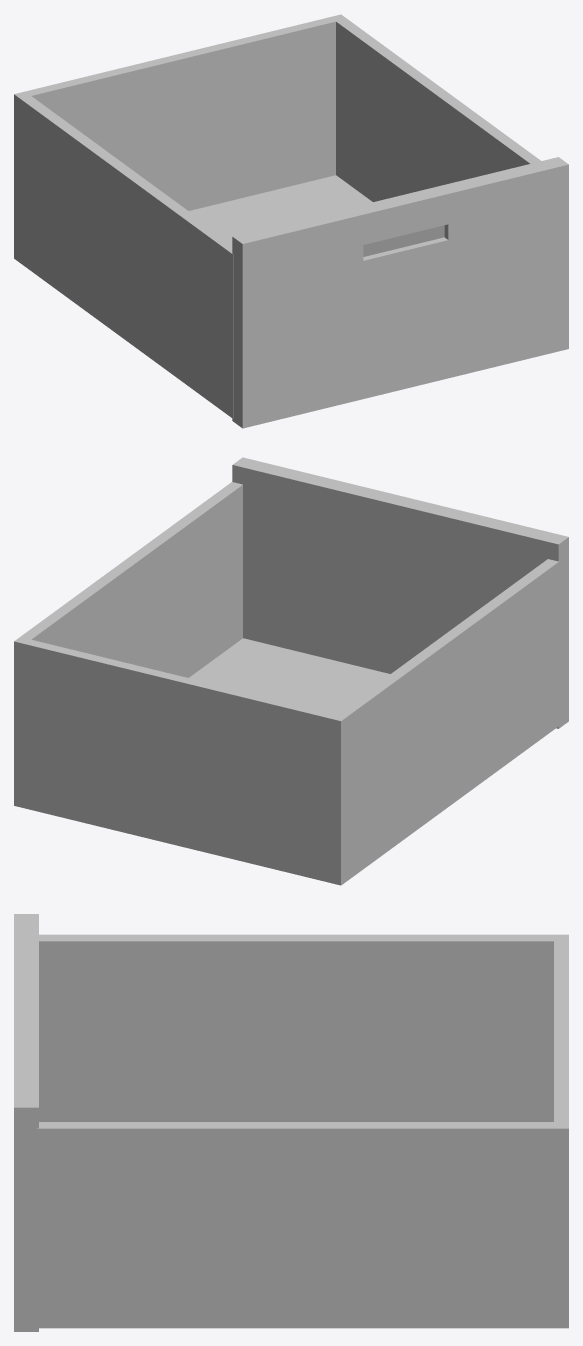
Rendered from Refrigerator3_C2_05.fbx.
3 renders of one model, top to bottom at view 1: azimuth 30°, elevation 25°; view 2: azimuth 150°, elevation 25°; view 3: azimuth 270°, elevation 25°, orthographic. The views are drawn at different scales.
Visible parts, largest first — view 1: Refrigerator3_C2_05; view 2: Refrigerator3_C2_05; view 3: Refrigerator3_C2_05.
Part boxes in pixels (x1,y1,x2,y2): Refrigerator3_C2_05: (14, 14, 568, 428); Refrigerator3_C2_05: (14, 457, 568, 885); Refrigerator3_C2_05: (14, 914, 568, 1331).
Bounding box in the file's own units: 43.24 × 23.3 × 52.26.
